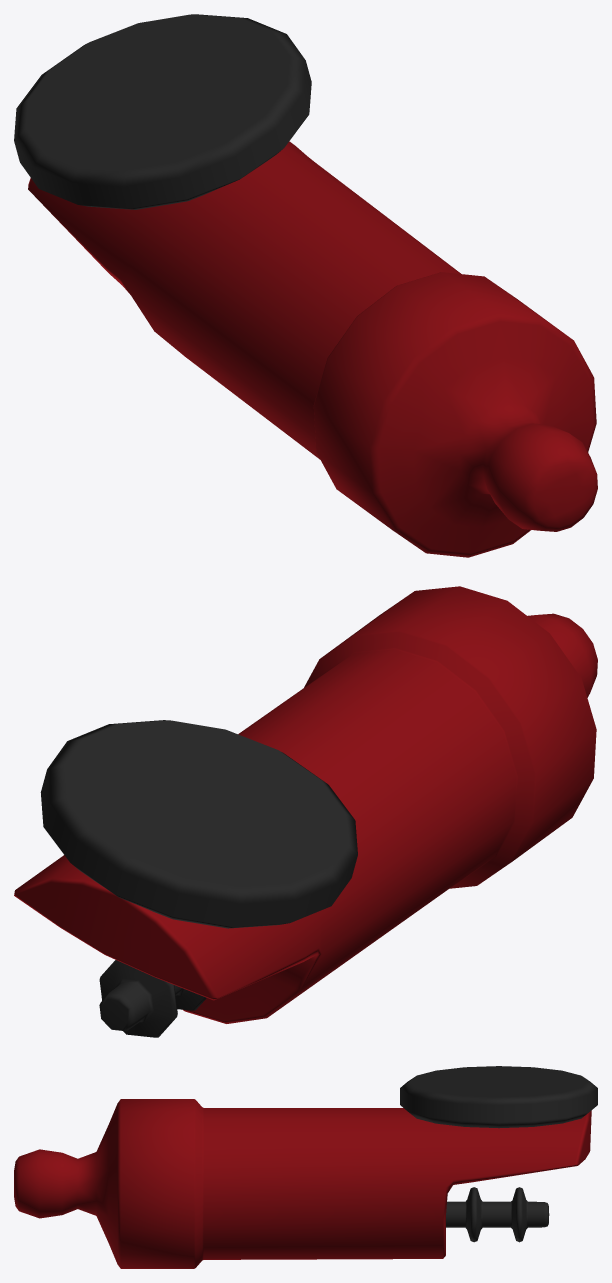
File: Ship_enemy_03_Weapon_R.fbx
3 views of the same model, one above another, from view 1: azimuth 30°, elevation 25°; view 2: azimuth 150°, elevation 25°; view 3: azimuth 270°, elevation 25° (orthographic). The views are drawn at different scales.
Visible parts, largest first — view 1: Ship_enemy_03_Weapon_R; view 2: Ship_enemy_03_Weapon_R; view 3: Ship_enemy_03_Weapon_R.
Part boxes in pixels (<box>): Ship_enemy_03_Weapon_R: <box>14,14,597,557</box>; Ship_enemy_03_Weapon_R: <box>14,586,597,1037</box>; Ship_enemy_03_Weapon_R: <box>14,1066,597,1268</box>.
Size of the model in its own units: 92.44 by 93.65 by 262.
